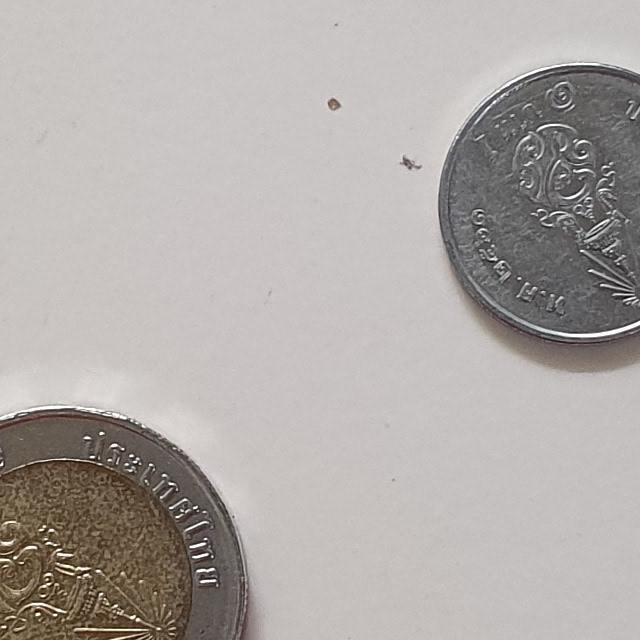1 Bath: (427, 56, 640, 361)
10 Bath: (1, 391, 261, 640)
